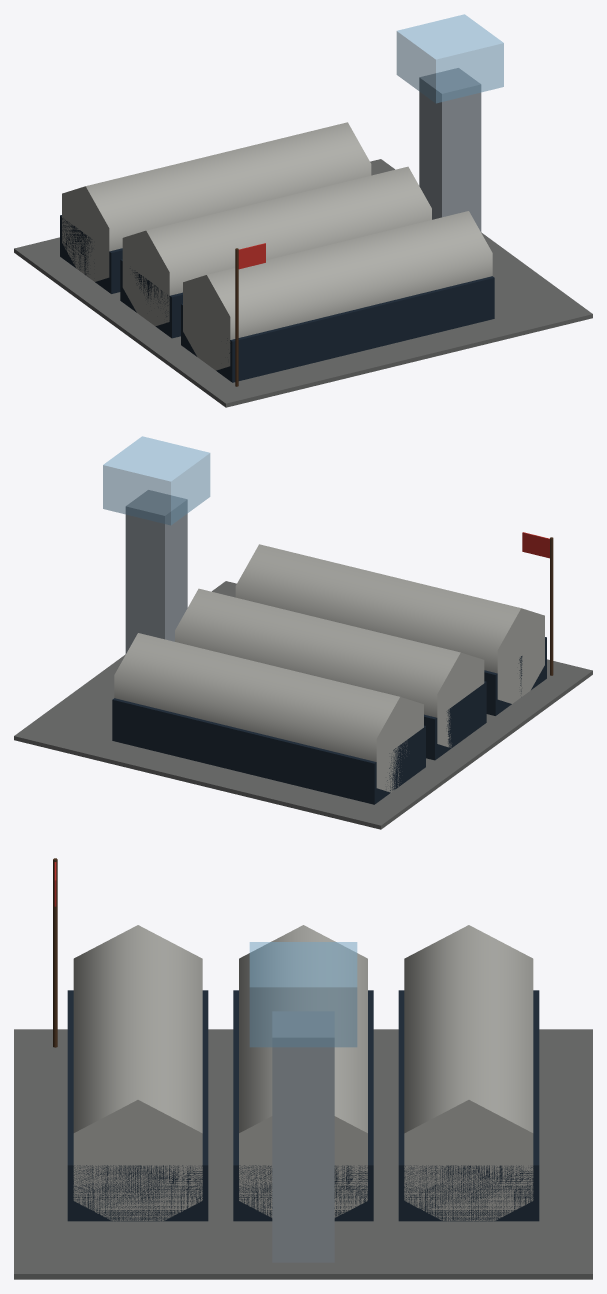
The model's file is bld_special_barracks_a07_lod1.glb.
3 renders of one model, top to bottom at view 1: azimuth 30°, elevation 25°; view 2: azimuth 150°, elevation 25°; view 3: azimuth 270°, elevation 25°, orthographic. The views are drawn at different scales.
Parts seen in each view (by area): view 1: body; view 2: body; view 3: body.
Boxes of the visible parts, x1,y1,x2,y2 form: body: (14,14,592,407); body: (14,436,592,829); body: (14,858,592,1279).
Bounding box in the file's own units: 14 × 7.95 × 14.
